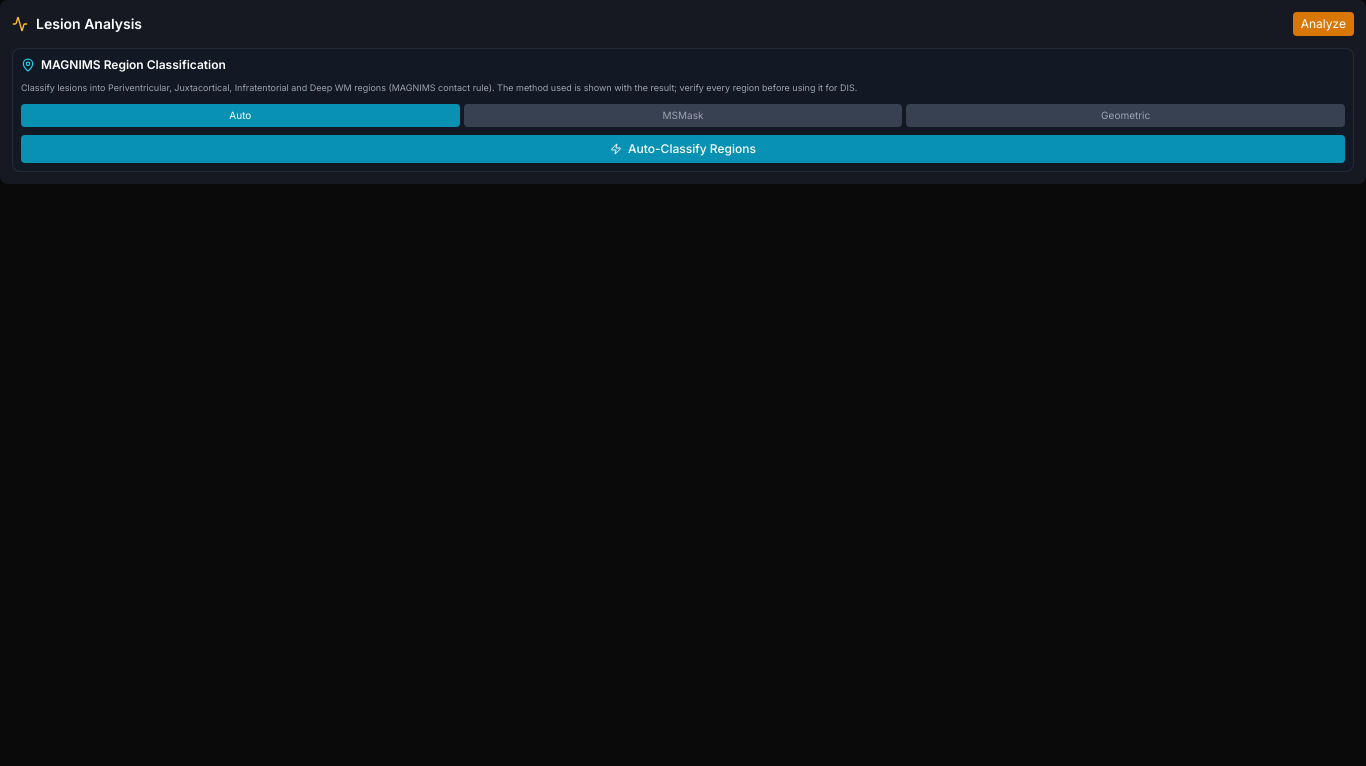
m1: a failed mask reload after the classification › rc071 release2 m1 is shown, and the confirmation is refused until the mask is reloaded
Click the button "Auto-Classify Regions" at coordinates (683, 149), box [21,135,1345,163]
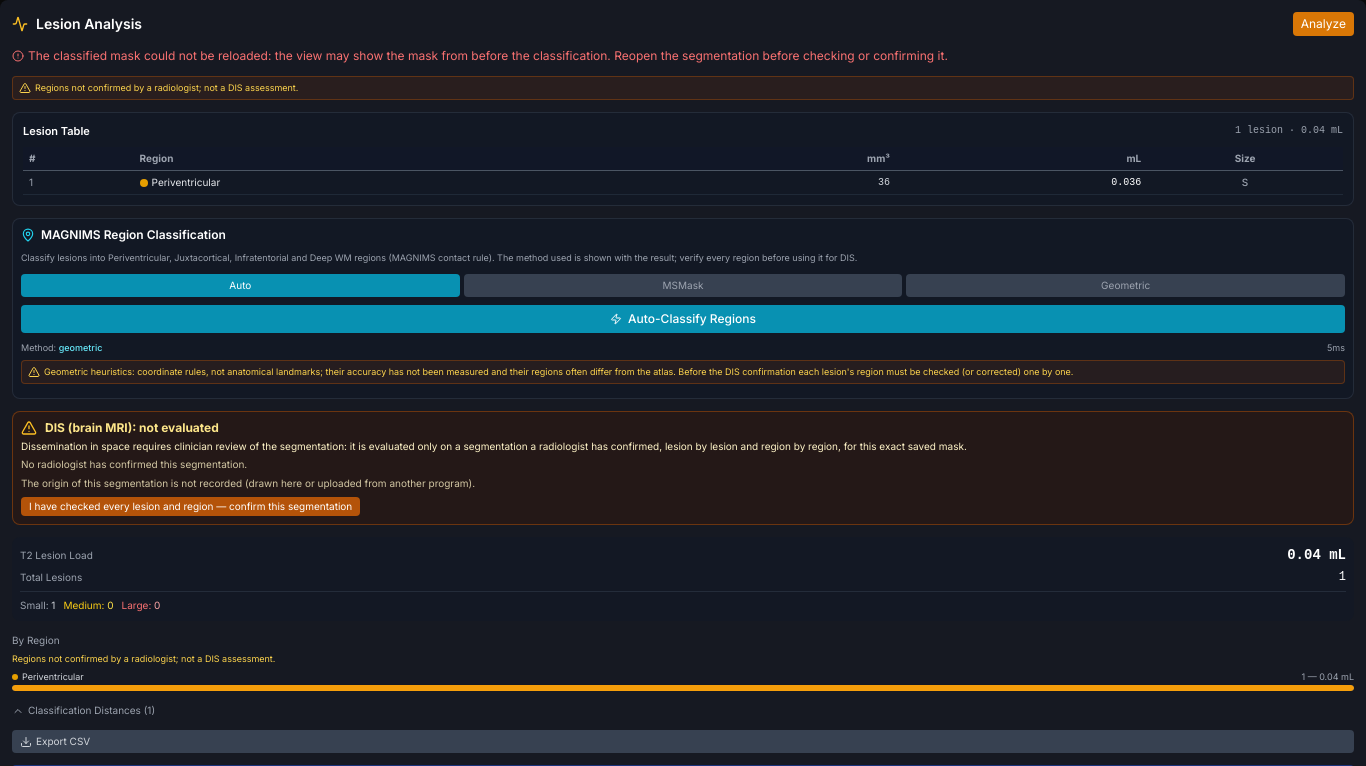
Now the text "could not be reloaded" is shown, box [28,48,948,63]
Click the button "confirm this segmentation" at coordinates (191, 507), box [21,497,360,516]
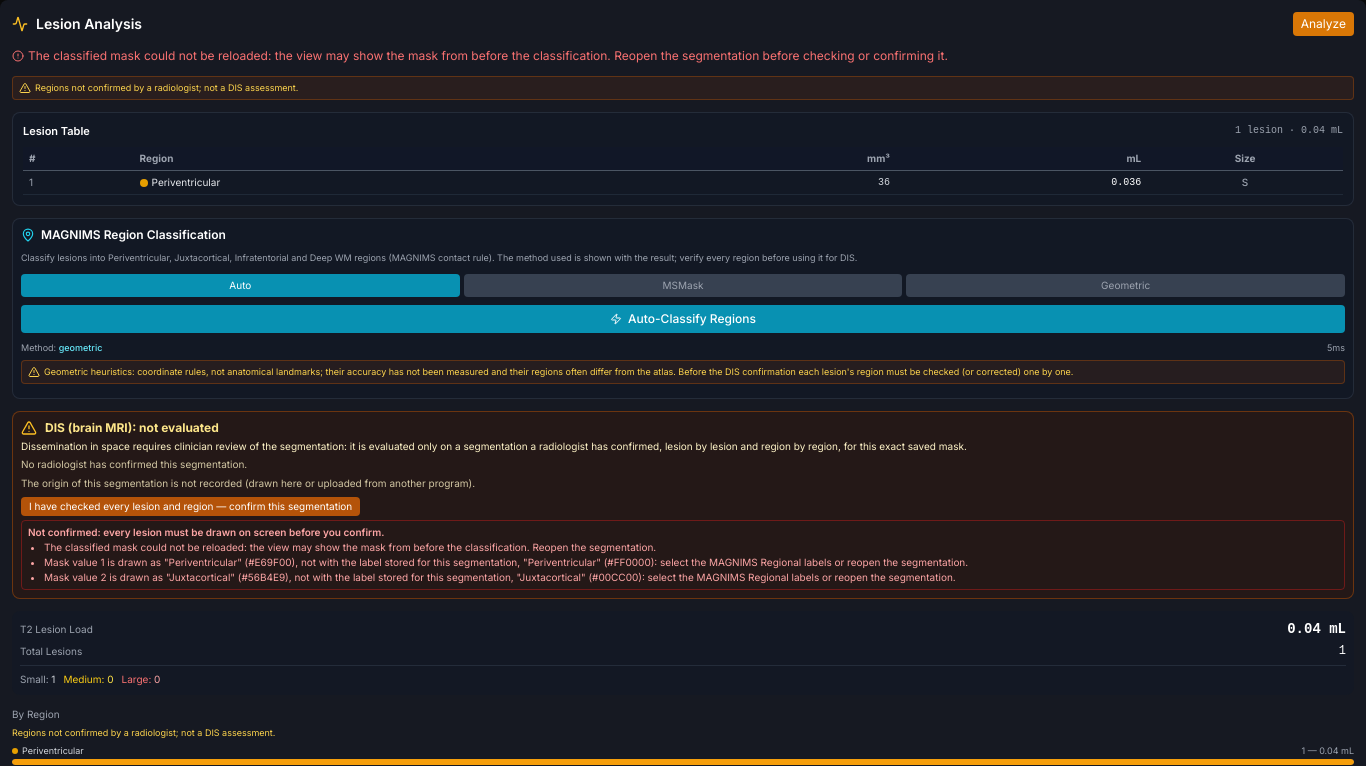
Now the message with test id "dis-confirm-refused" shows "could not be reloaded", box [44,541,656,553]
